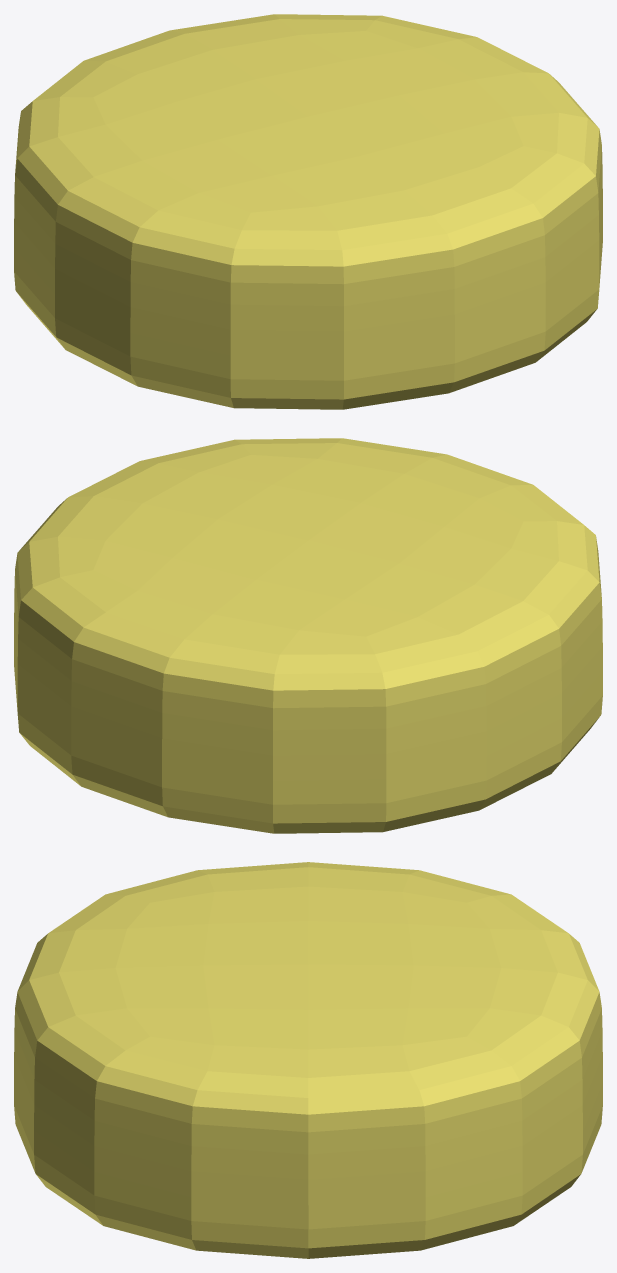
The model's file is BottomBun01.fbx.
3 views of the same model, one above another, from view 1: azimuth 30°, elevation 25°; view 2: azimuth 150°, elevation 25°; view 3: azimuth 270°, elevation 25° (orthographic).
Parts seen in each view (by area): view 1: Cube; view 2: Cube; view 3: Cube.
Part boxes in pixels (x1,y1,x2,y2): Cube: (14,14,602,409); Cube: (14,438,602,833); Cube: (14,862,602,1258).
Size of the model in its own units: 183 by 68.41 by 183.
